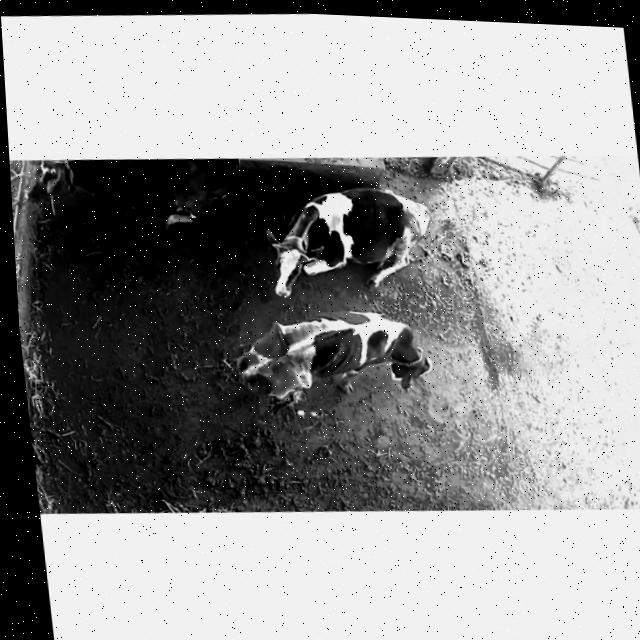lay: (254, 165, 451, 315)
